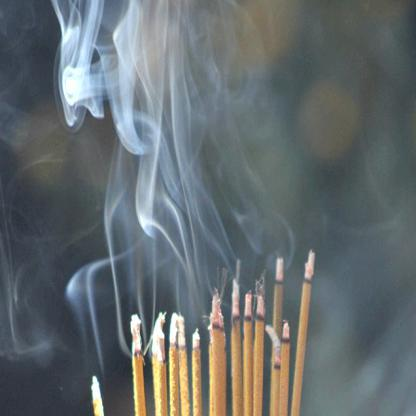smoke: (107, 1, 204, 316), (51, 0, 109, 140), (66, 250, 102, 342)
